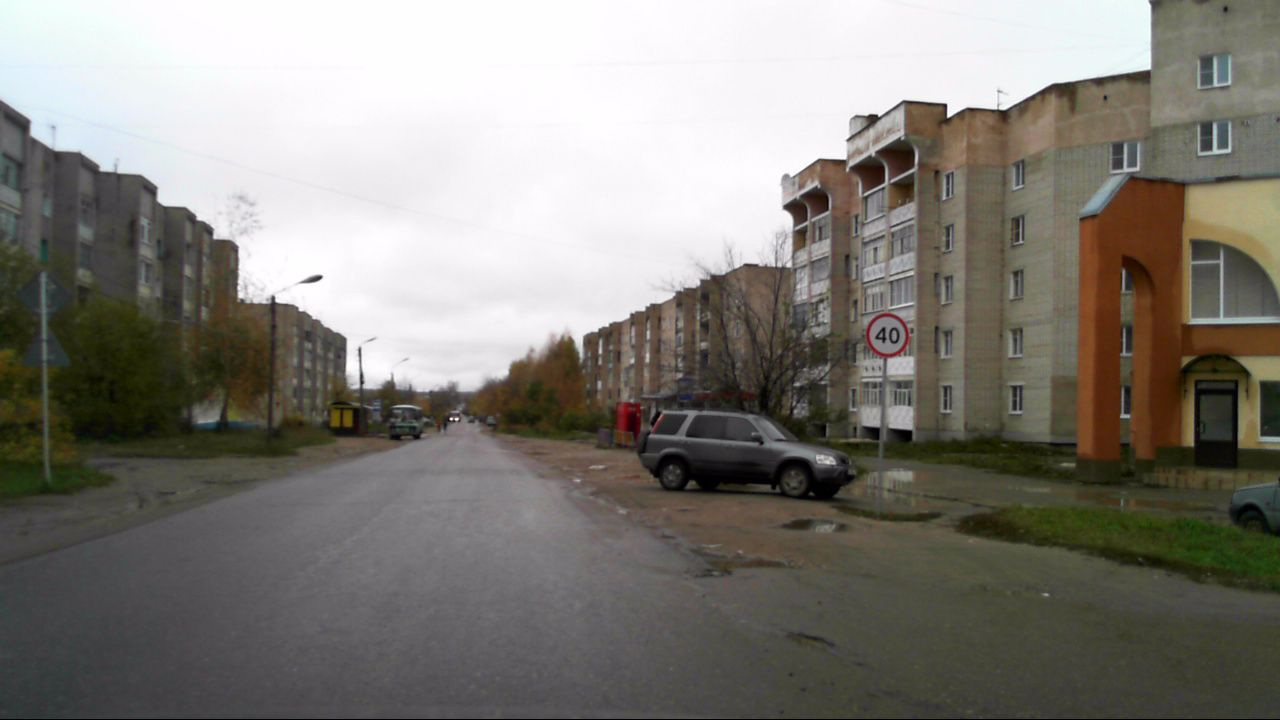speed_warning_40: (864, 310, 910, 357)
